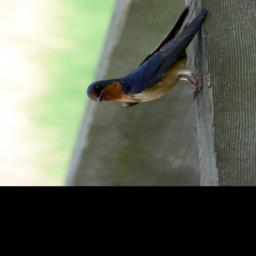Swallow: (84, 0, 212, 109)
